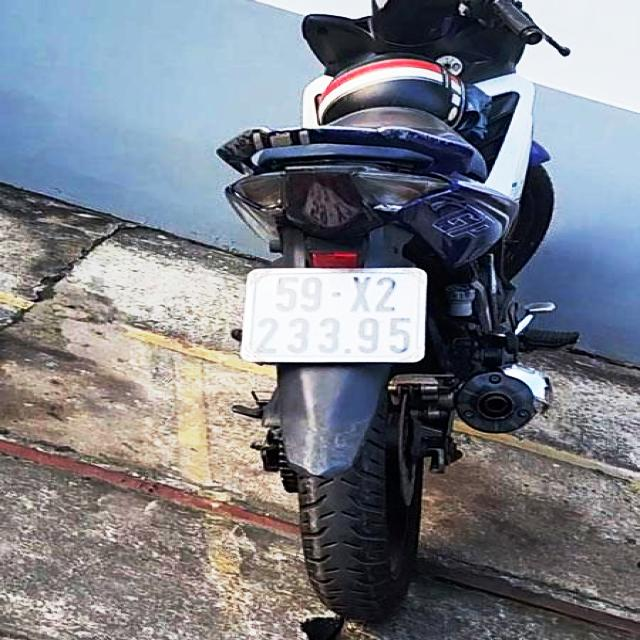license_plate: (245, 268, 424, 360)
